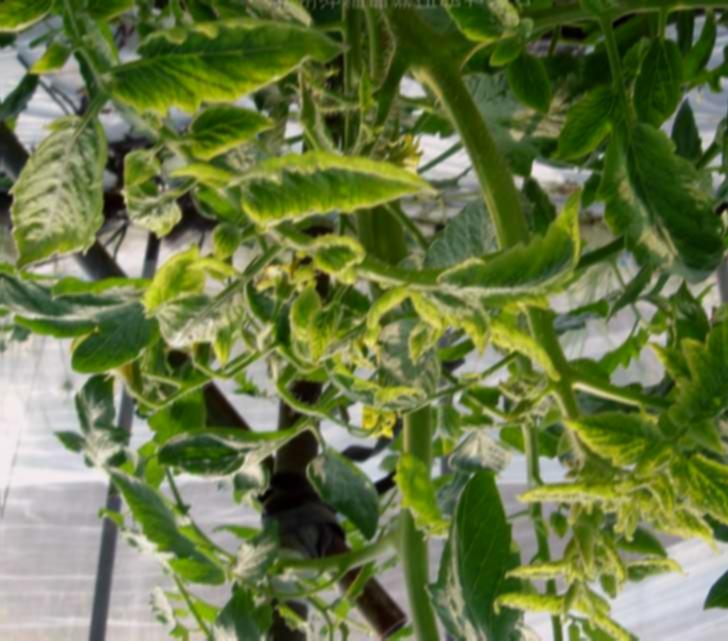Tomato leaf yellow virus: (104, 17, 351, 115), (0, 102, 130, 285), (447, 197, 592, 320), (220, 152, 447, 229), (666, 303, 728, 437), (138, 240, 215, 338), (570, 398, 666, 473), (410, 0, 534, 50), (673, 446, 728, 541)
